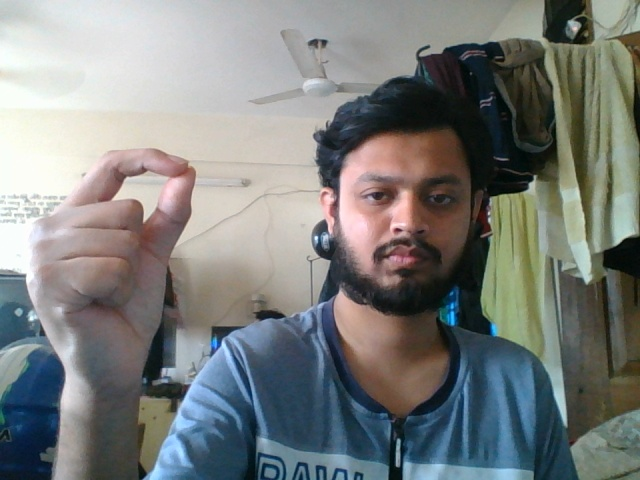gha: (23, 124, 205, 427)
